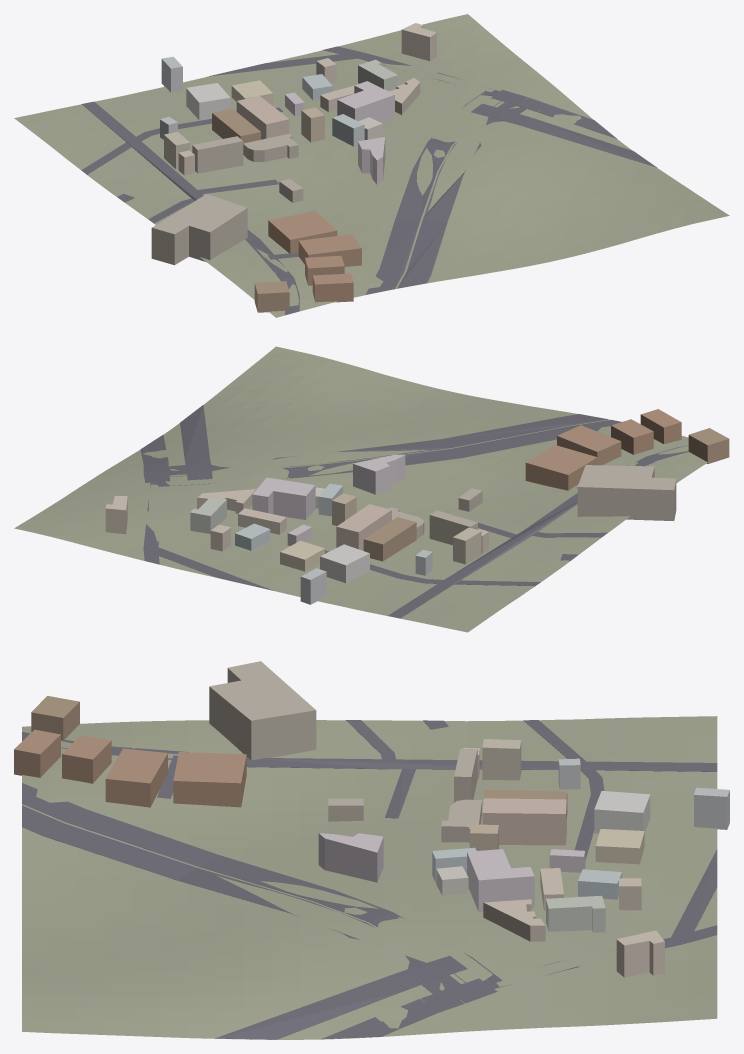
Rendered from chunk_8_1.glb.
3 renders of one model, top to bottom at view 1: azimuth 30°, elevation 25°; view 2: azimuth 150°, elevation 25°; view 3: azimuth 270°, elevation 25°, orthographic. The views are drawn at different scales.
Visible parts, largest first — view 1: geometry_29, geometry_5, geometry_47, geometry_30, geometry_32, geometry_0, geometry_26, geometry_20, geometry_2, geometry_17, geometry_36, geometry_7 (+17 smaller); view 2: geometry_29, geometry_5, geometry_47, geometry_30, geometry_32, geometry_0, geometry_26, geometry_24, geometry_11, geometry_2, geometry_17, geometry_7 (+18 smaller); view 3: geometry_29, geometry_5, geometry_47, geometry_30, geometry_32, geometry_0, geometry_17, geometry_36, geometry_26, geometry_2, geometry_24, geometry_7 (+29 smaller).
Boxes of the visible parts, left/top/right/bottom form: geometry_29: left=14, top=14, right=729, bottom=317; geometry_5: left=151, top=194, right=247, bottom=265; geometry_47: left=365, top=90, right=507, bottom=294; geometry_30: left=397, top=112, right=510, bottom=288; geometry_32: left=81, top=101, right=299, bottom=315; geometry_0: left=268, top=211, right=337, bottom=253; geometry_26: left=337, top=81, right=394, bottom=123; geometry_20: left=192, top=136, right=243, bottom=173; geometry_2: left=298, top=234, right=361, bottom=266; geometry_17: left=236, top=95, right=289, bottom=139; geometry_36: left=520, top=117, right=656, bottom=167; geometry_7: left=186, top=83, right=230, bottom=120; geometry_29: left=14, top=346, right=707, bottom=632; geometry_5: left=577, top=465, right=676, bottom=520; geometry_47: left=157, top=419, right=621, bottom=486; geometry_30: left=198, top=414, right=607, bottom=473; geometry_32: left=388, top=445, right=688, bottom=618; geometry_0: left=525, top=445, right=597, bottom=490; geometry_26: left=252, top=477, right=315, bottom=519; geometry_24: left=353, top=454, right=405, bottom=494; geometry_11: left=363, top=517, right=416, bottom=561; geometry_2: left=557, top=425, right=621, bottom=465; geometry_17: left=336, top=504, right=391, bottom=550; geometry_7: left=320, top=544, right=369, bottom=583; geometry_29: left=22, top=716, right=717, bottom=1039; geometry_5: left=209, top=661, right=316, bottom=760; geometry_47: left=22, top=783, right=502, bottom=989; geometry_30: left=22, top=805, right=439, bottom=977; geometry_32: left=22, top=732, right=717, bottom=771; geometry_0: left=173, top=752, right=246, bottom=807; geometry_17: left=482, top=798, right=566, bottom=845; geometry_36: left=215, top=976, right=405, bottom=1039; geometry_26: left=467, top=849, right=534, bottom=911; geometry_2: left=105, top=748, right=167, bottom=807; geometry_24: left=318, top=833, right=383, bottom=882; geometry_7: left=594, top=791, right=650, bottom=833.
Size of the model in its own units: 269 by 24.93 by 258.
